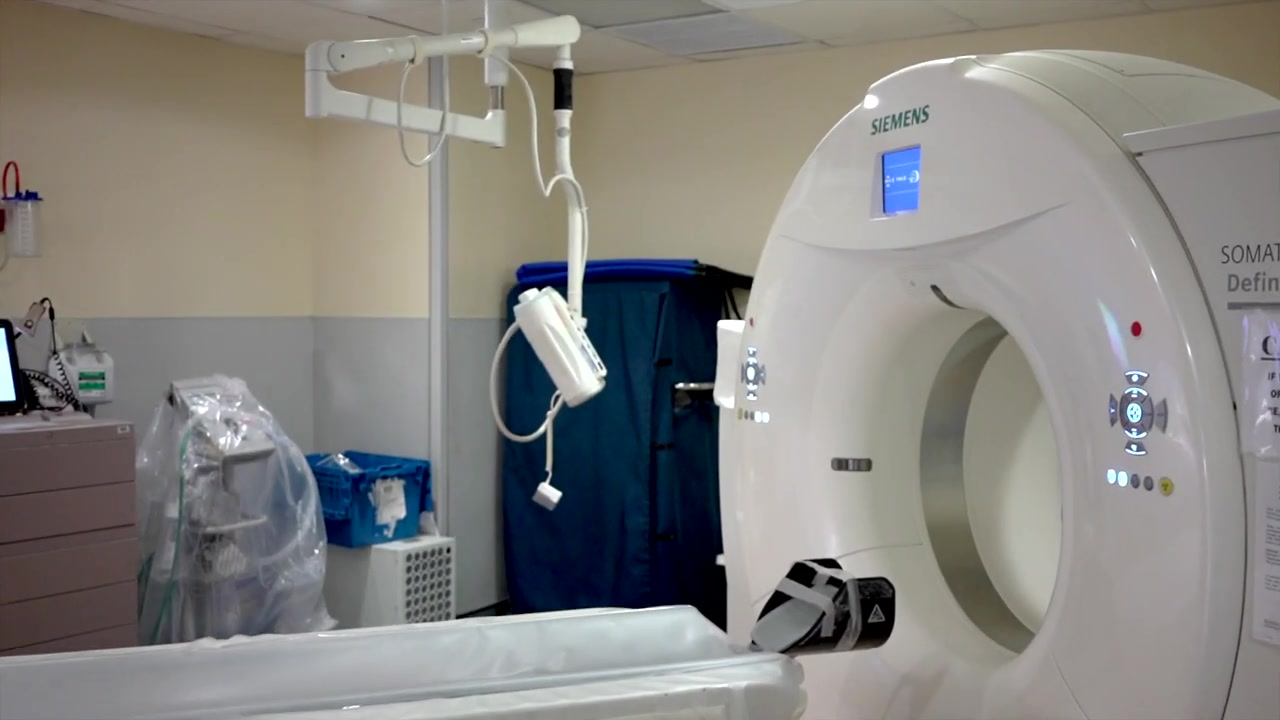drawer: (1, 415, 142, 646)
waste_bin: (304, 445, 437, 546)
xray_bed: (1, 597, 798, 720)
xray_machine: (713, 41, 1280, 720)
